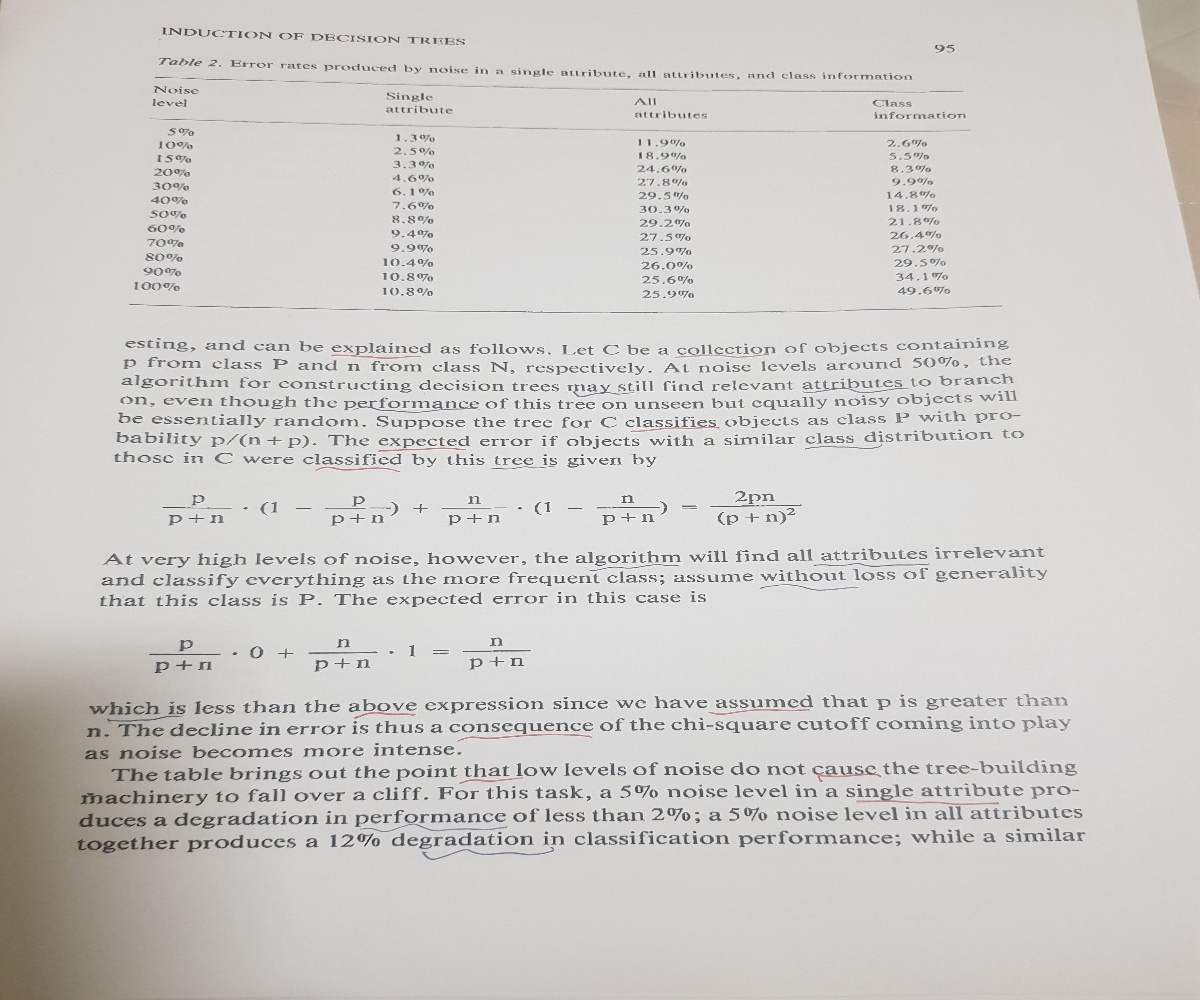underline: (855, 795, 998, 808), (355, 822, 512, 832), (419, 848, 556, 859), (756, 583, 862, 596), (457, 732, 597, 741), (811, 560, 930, 570), (311, 464, 407, 476), (709, 707, 812, 718), (347, 405, 480, 413), (804, 442, 886, 454), (800, 386, 909, 395), (330, 352, 422, 362), (105, 713, 180, 725), (585, 562, 680, 571), (458, 774, 523, 786), (630, 425, 724, 433), (351, 709, 413, 721), (378, 446, 465, 454), (674, 351, 773, 358), (569, 389, 639, 398), (488, 463, 556, 471), (813, 772, 880, 779)
